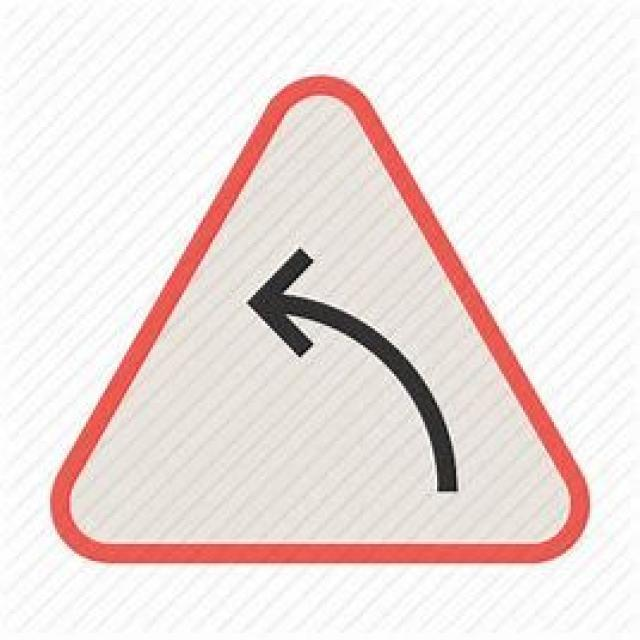left hand curve: (52, 78, 590, 563)
